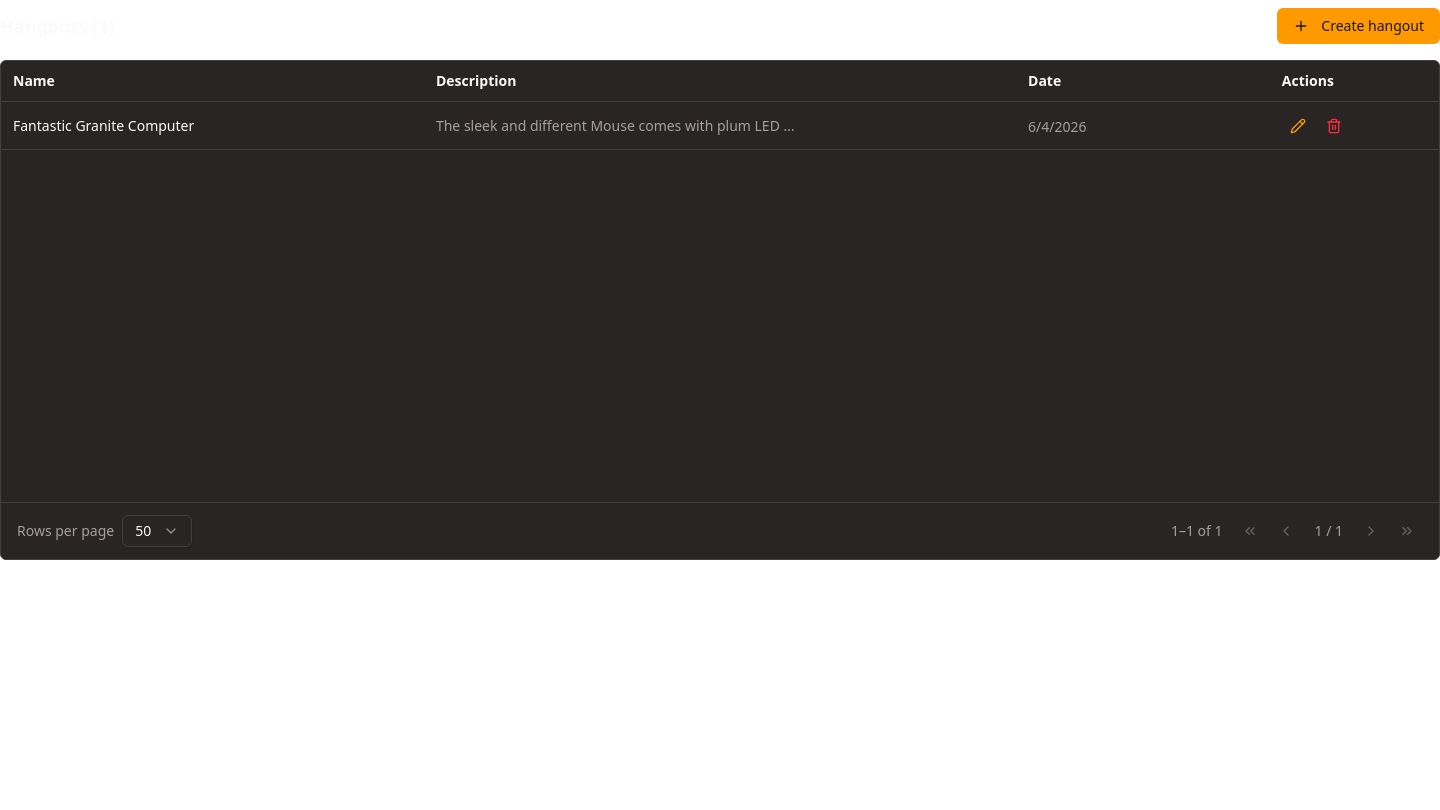
Scenario: Hangouts screen › edit flow: edit button opens dialog with prefilled data
Step 1. Click the 2nd button → (1298, 126), box [1282,110,1314,142]
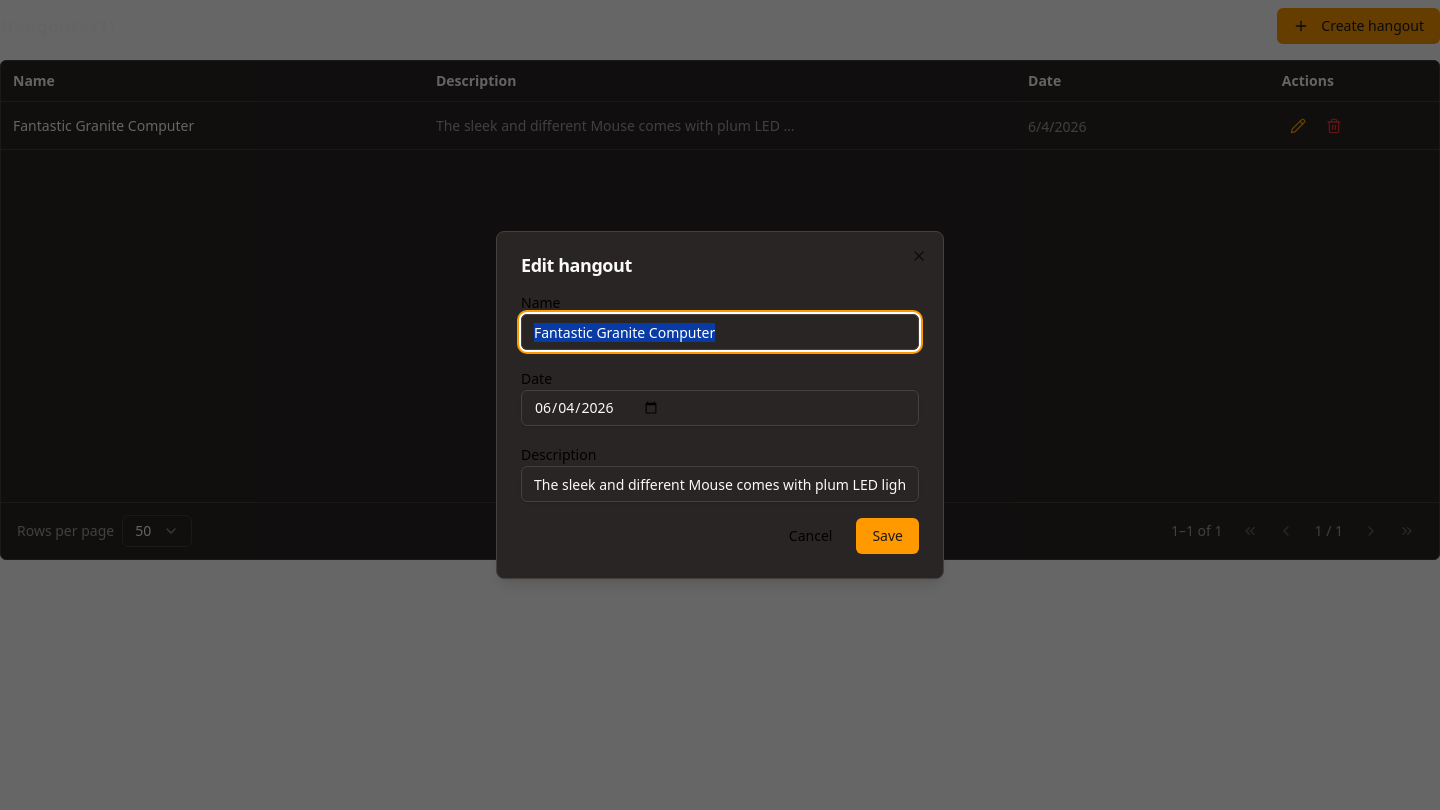
Now the dialog "Edit hangout Name Date Description Cancel Save" is shown, box [496,231,944,579]
